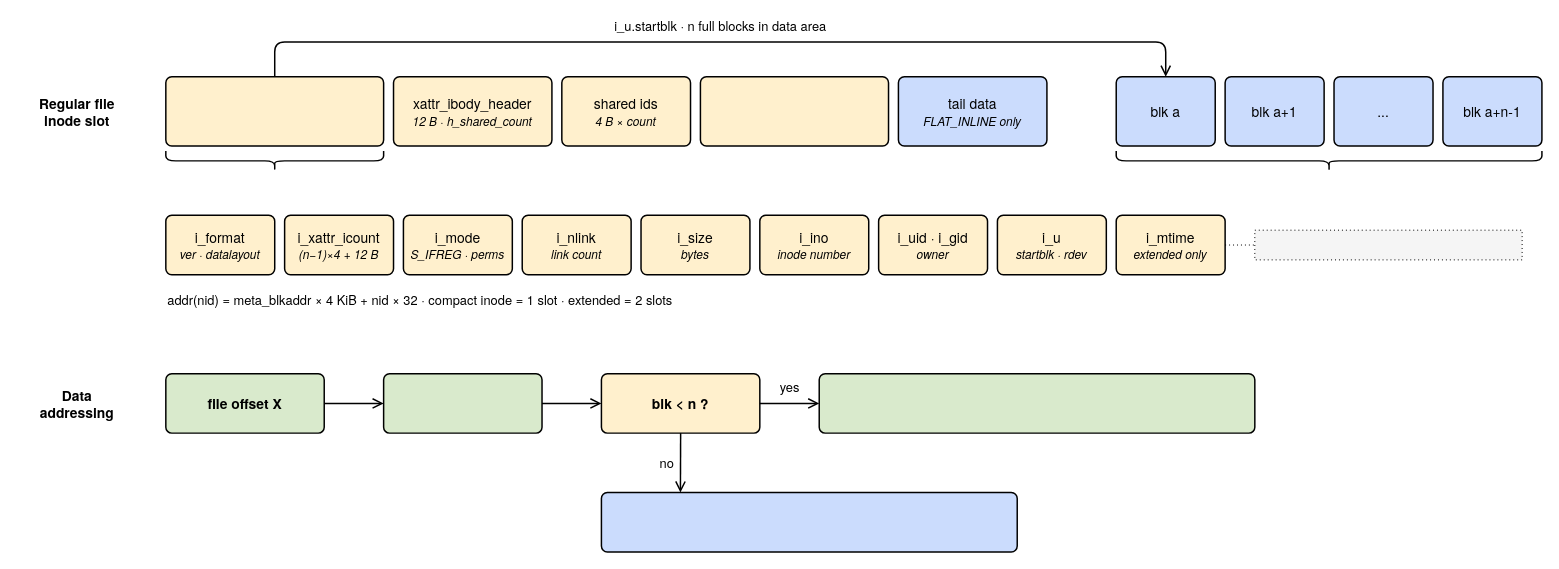
Some shapes in this 1559 by 569 pixel diagram are drawn without their labels. The shapes that lost their labels are listed below. From the top down, each one's box as (x1, y1, x2, y2) in pixels, then its label:
(165, 76, 384, 146): inode erofs_inode_compact 32 B · erofs_inode_extended 64 B
(699, 76, 889, 146): inline xattrs entry 4 B · name · value
(1115, 150, 1542, 171): i_size = n × 4 KiB + len(tail)
(1254, 229, 1522, 260): dump.erofs --nid=<nid> image.erofs
(382, 373, 542, 433): blk = X >> 12 4 KiB blocks
(818, 373, 1255, 433): addr = (startblk + blk) × 4 KiB + X mod 4 KiB in data area
(600, 491, 1018, 552): tail data · right after inode & xattrs FLAT_INLINE · X mod 4 KiB into tail
